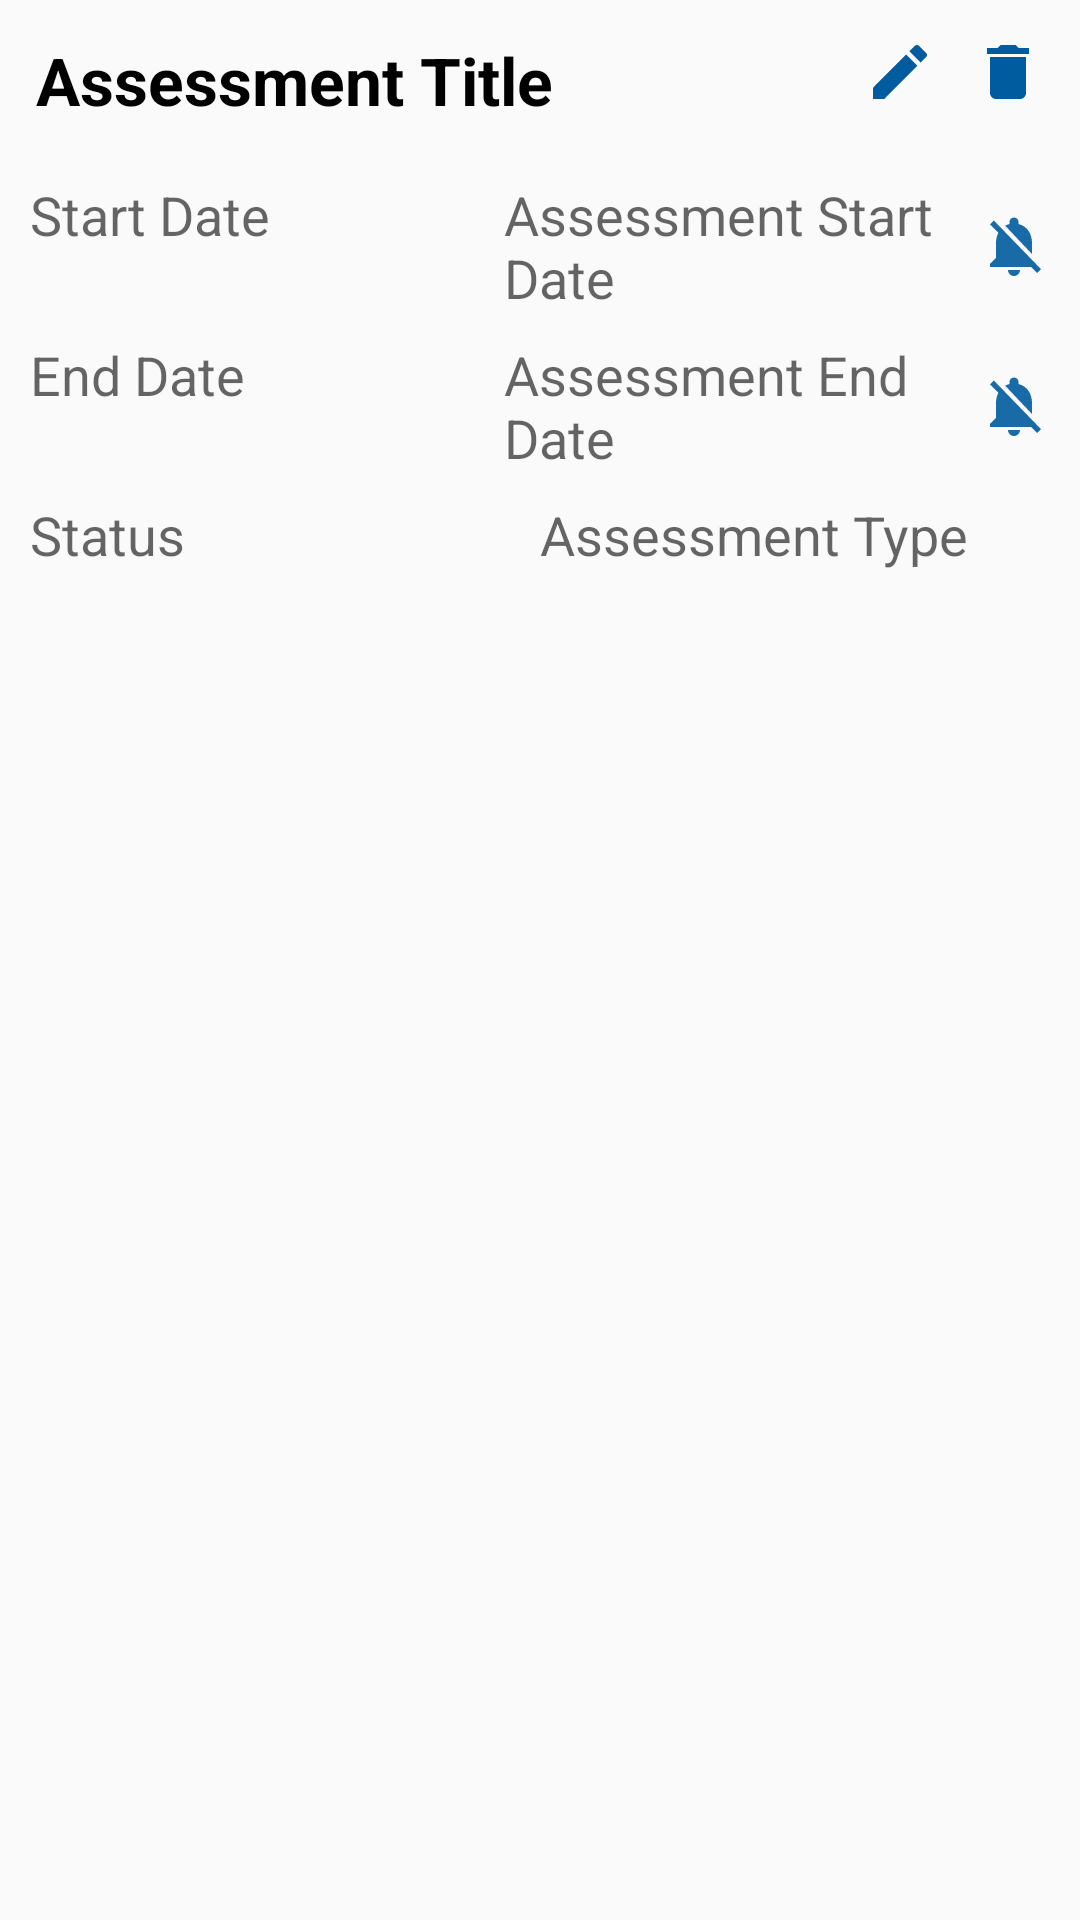

Screen size 1080x1920. Icon name, then its box in pixels as [x1=x1, y1=y1, x2=x2, y2=y2]:
delete: [x1=987, y1=45, x2=1029, y2=99]
edit: [x1=873, y1=45, x2=927, y2=99]
notifications off: [x1=990, y1=217, x2=1041, y2=276], [x1=990, y1=377, x2=1041, y2=436]
